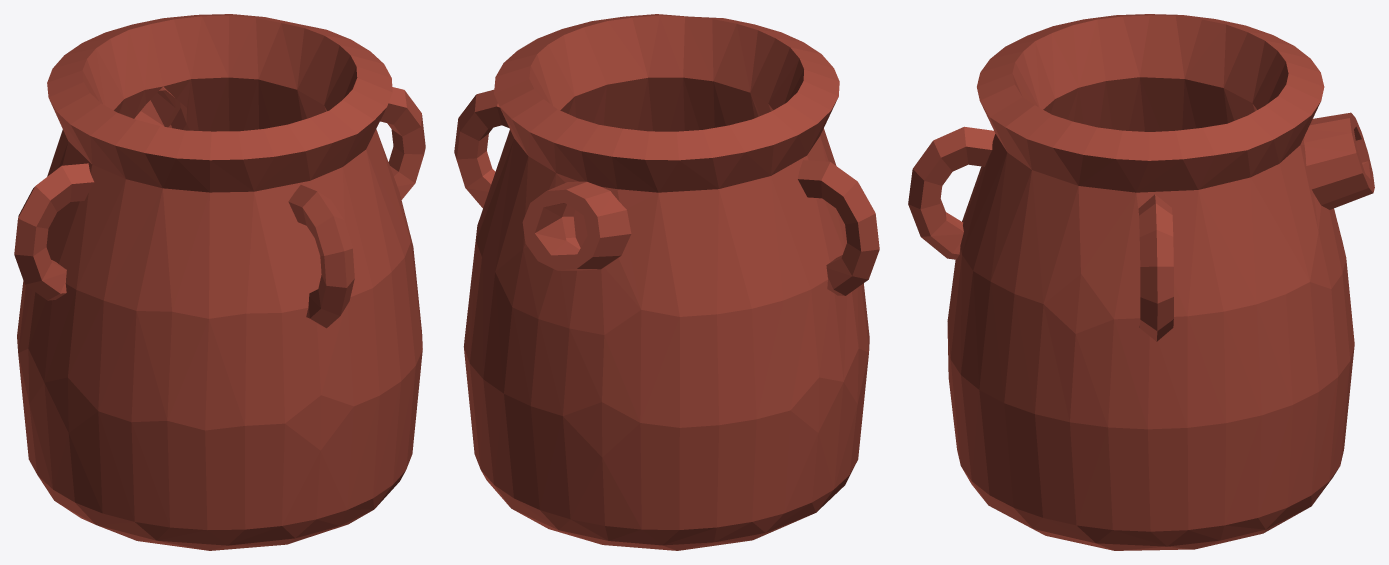
The model's file is Pottery 4_3.fbx.
The picture shows the model from 3 angles, left to right: view 1: azimuth 30°, elevation 25°; view 2: azimuth 150°, elevation 25°; view 3: azimuth 270°, elevation 25°; orthographic projection.
Visible parts, largest first — view 1: Pottery 4_3; view 2: Pottery 4_3; view 3: Pottery 4_3.
Part boxes in pixels (x1,y1,x2,y2): Pottery 4_3: (14, 14, 425, 550); Pottery 4_3: (454, 14, 879, 550); Pottery 4_3: (908, 14, 1374, 550).
Size of the model in its own units: 62.86 by 59.43 by 60.51.
